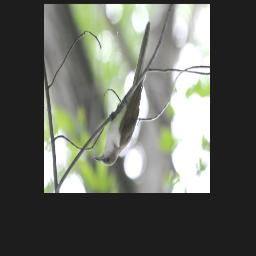Cuckoo: (94, 19, 153, 169)
